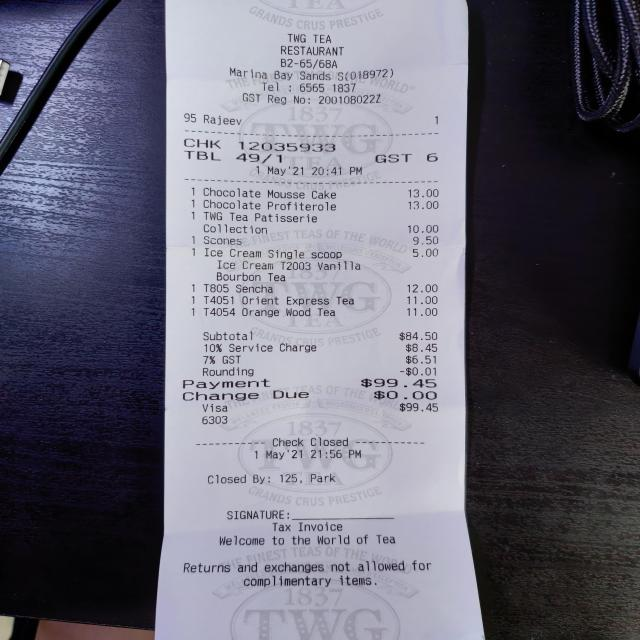bill_region: (182, 182, 446, 391)
